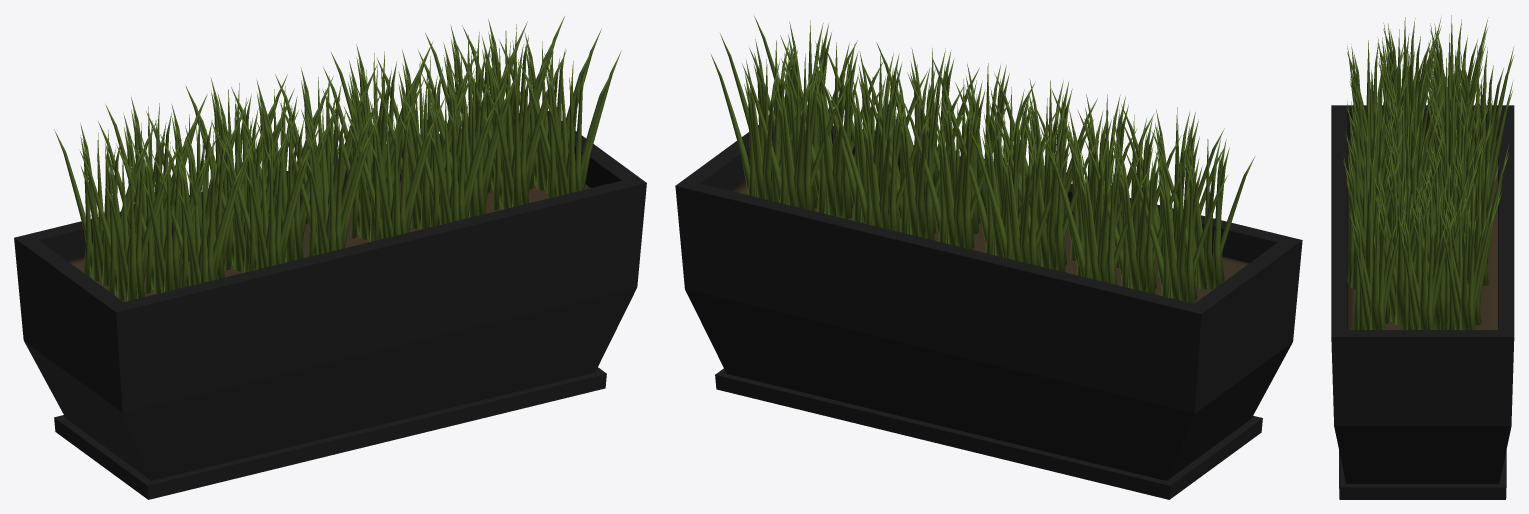
File: plant_decor.fbx
3 views of the same model, side by side, from view 1: azimuth 30°, elevation 25°; view 2: azimuth 150°, elevation 25°; view 3: azimuth 270°, elevation 25° (orthographic). The views are drawn at different scales.
Parts seen in each view (by area): view 1: pot; view 2: pot; view 3: pot.
Boxes of the visible parts, box(x1,y1,x2,y2) form: pot: box(14, 16, 646, 499); pot: box(675, 16, 1302, 499); pot: box(1331, 15, 1514, 499).
Bounding box in the file's own units: 185 × 104 × 61.08.
